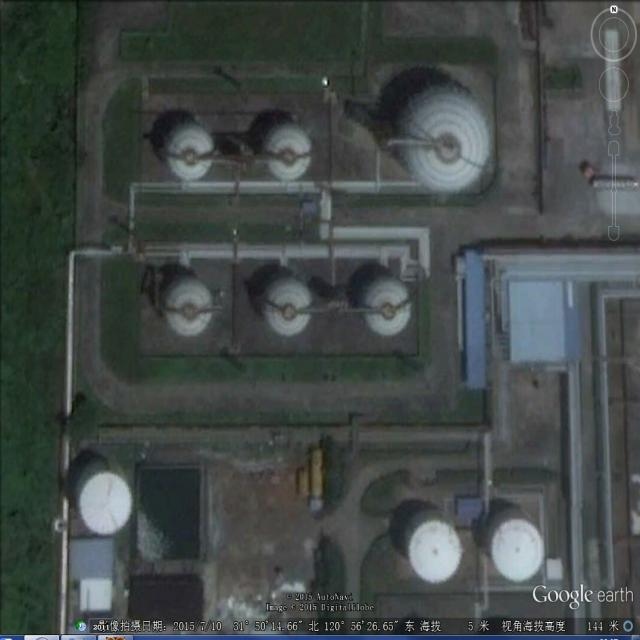oiltank: (394, 78, 495, 197), (483, 505, 548, 587), (403, 505, 465, 589), (74, 457, 136, 539), (356, 271, 415, 339), (258, 274, 317, 340), (161, 120, 220, 184), (160, 276, 219, 339), (259, 122, 315, 186)
